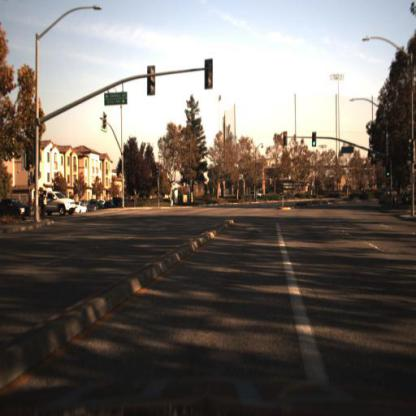car: (32, 183, 81, 219), (37, 189, 78, 217), (87, 200, 105, 216), (75, 200, 89, 217), (73, 201, 90, 214)
pedestrian: (42, 191, 50, 222), (38, 190, 42, 223)
trafficLight-Green: (311, 129, 319, 150), (385, 169, 392, 184), (313, 138, 318, 151)
trafficLight-RedLeft: (283, 132, 289, 145)
